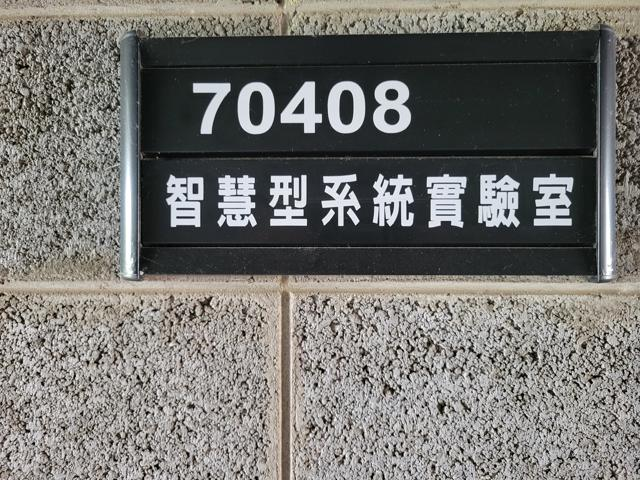doorplate: (111, 12, 622, 292)
